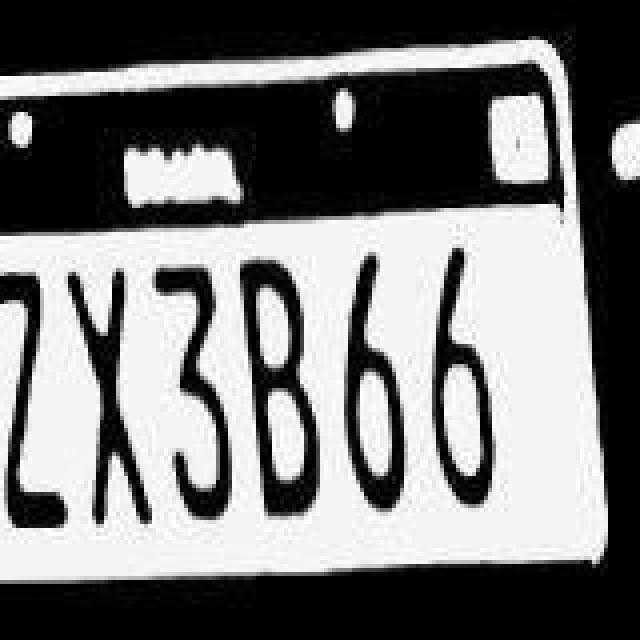3: (150, 264, 234, 532)
6: (428, 238, 508, 510), (344, 240, 424, 508)
B: (240, 244, 336, 520)
X: (62, 252, 154, 532)
Z: (0, 266, 64, 534)
